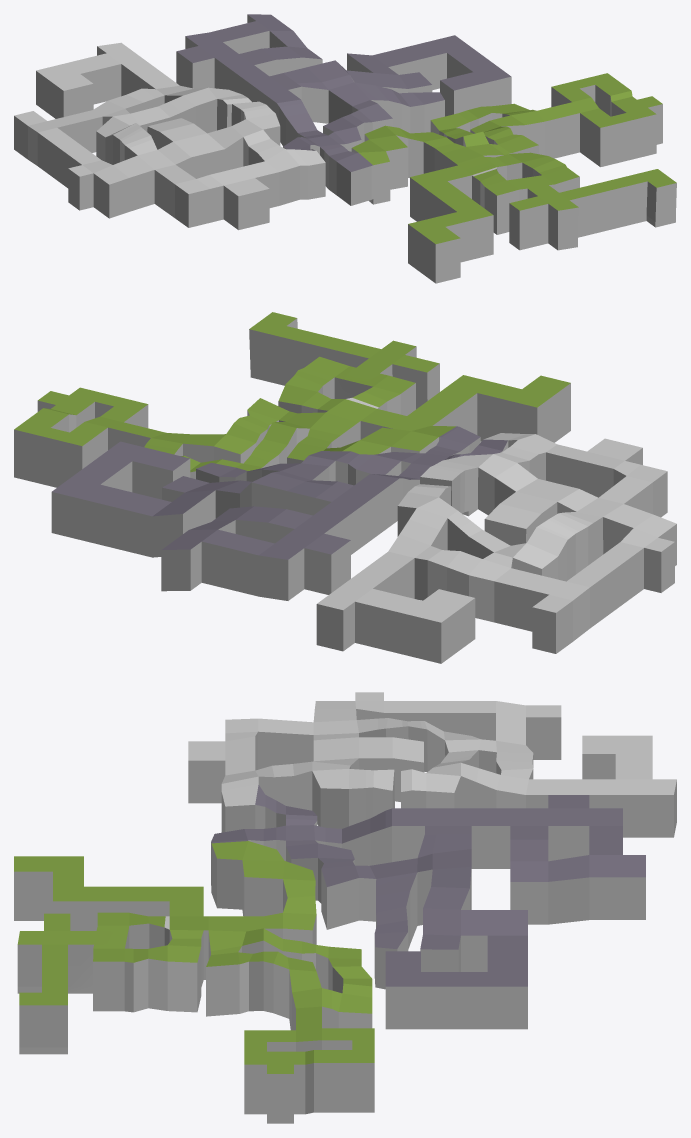
Rendered from ALITTLEBETTER.fbx.
3 renders of one model, top to bottom at view 1: azimuth 30°, elevation 25°; view 2: azimuth 150°, elevation 25°; view 3: azimuth 270°, elevation 25°, orthographic. The views are drawn at different scales.
Parts seen in each view (by area): view 1: polySurface106.002, polySurface94.001, polySurface89.002, polySurface92.001, polySurface103.001, polySurface95.001, polySurface96.001, polySurface105.001, polySurface102.001; view 2: polySurface106.002, polySurface94.001, polySurface89.002, polySurface92.001, polySurface95.001, polySurface103.001, polySurface96.001, polySurface97.001, polySurface102.001, polySurface105.001; view 3: polySurface106.002, polySurface89.002, polySurface92.001, polySurface94.001, polySurface103.001, polySurface105.001, polySurface95.001, polySurface96.001, polySurface102.001.
Part boxes in pixels (x1,y1,x2,y2): polySurface106.002: [14, 14, 676, 283]; polySurface94.001: [14, 42, 325, 196]; polySurface89.002: [352, 73, 676, 243]; polySurface92.001: [177, 14, 510, 126]; polySurface103.001: [283, 113, 372, 171]; polySurface95.001: [57, 116, 137, 164]; polySurface96.001: [176, 137, 264, 178]; polySurface105.001: [288, 86, 358, 135]; polySurface102.001: [223, 31, 287, 53]; polySurface106.002: [14, 318, 676, 663]; polySurface94.001: [317, 433, 676, 622]; polySurface89.002: [14, 312, 570, 472]; polySurface92.001: [52, 441, 401, 559]; polySurface95.001: [511, 517, 633, 581]; polySurface103.001: [356, 426, 507, 479]; polySurface96.001: [518, 452, 625, 497]; polySurface97.001: [431, 518, 493, 558]; polySurface102.001: [218, 520, 294, 543]; polySurface105.001: [312, 460, 410, 485]; polySurface106.002: [14, 717, 676, 1123]; polySurface89.002: [14, 841, 374, 1073]; polySurface92.001: [318, 795, 645, 986]; polySurface94.001: [188, 692, 676, 806]; polySurface103.001: [211, 785, 370, 859]; polySurface105.001: [315, 826, 424, 865]; polySurface95.001: [356, 709, 495, 740]; polySurface96.001: [255, 731, 313, 770]; polySurface102.001: [548, 826, 589, 861].
Size of the model in its own units: 901 by 156 by 749.
